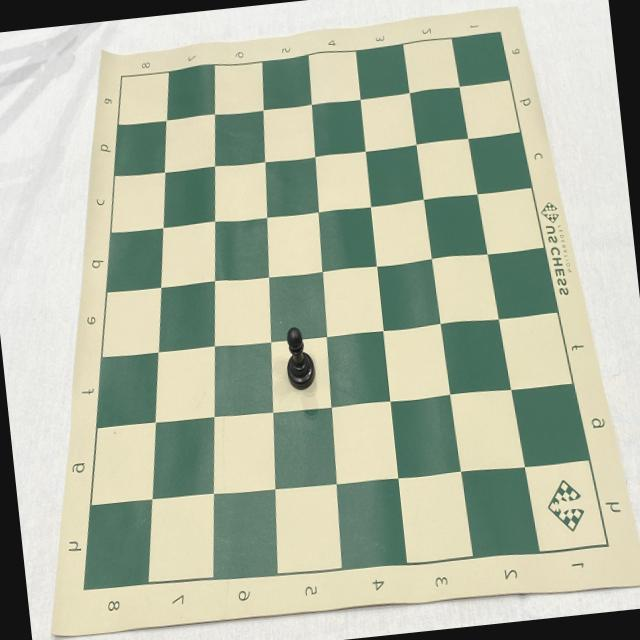black-pawn: (280, 322, 318, 393)
